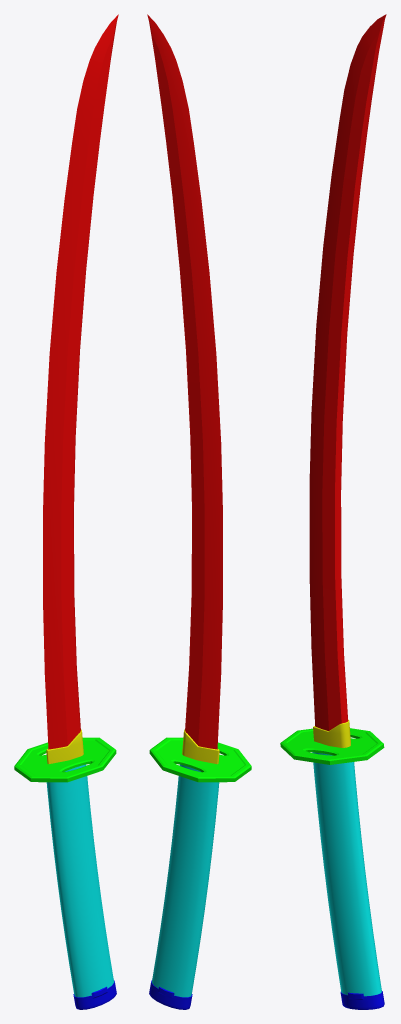
3 renders of one model, left to right at view 1: azimuth 30°, elevation 25°; view 2: azimuth 150°, elevation 25°; view 3: azimuth 330°, elevation 25°, orthographic.
Parts seen in each view (by area): view 1: pCube4 (×5); view 2: pCube4 (×5); view 3: pCube4 (×5).
Boxes of the visible parts, x1=… form: pCube4 (×5): x1=14, y1=14, x2=118, y2=1009; pCube4 (×5): x1=147, y1=14, x2=251, y2=1009; pCube4 (×5): x1=280, y1=14, x2=386, y2=1009.
Bounding box in the file's own units: 0.2046 × 2 × 0.1475.
